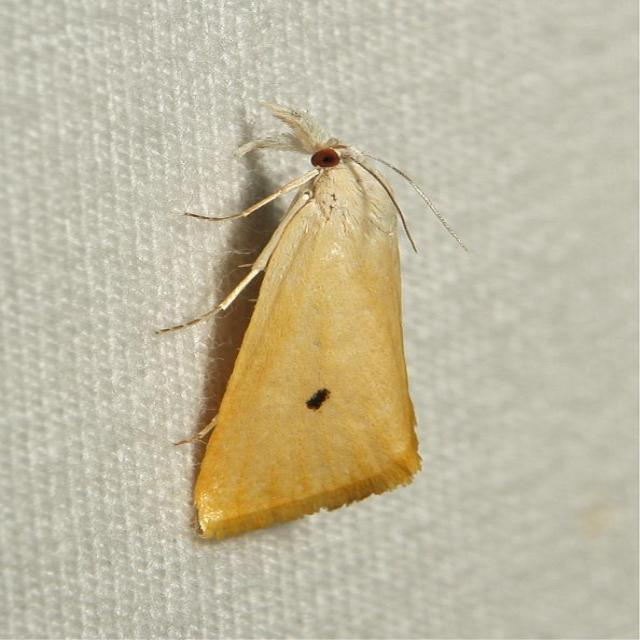yellow-stem-borer: (152, 90, 466, 555)
